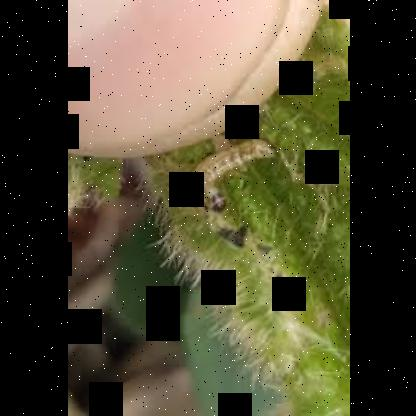oruga: (184, 127, 276, 209)
